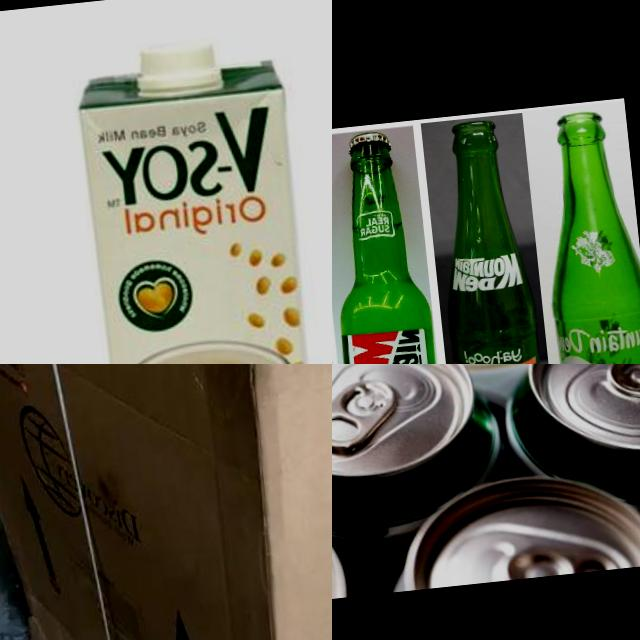aba de lata: (332, 372, 402, 458), (604, 364, 640, 401)
caixinha: (81, 59, 332, 364)
garrafa de vidro: (429, 117, 549, 364), (332, 127, 450, 364), (535, 108, 640, 364)
papelão: (0, 364, 332, 640)
tampa plástica: (131, 24, 218, 100)
